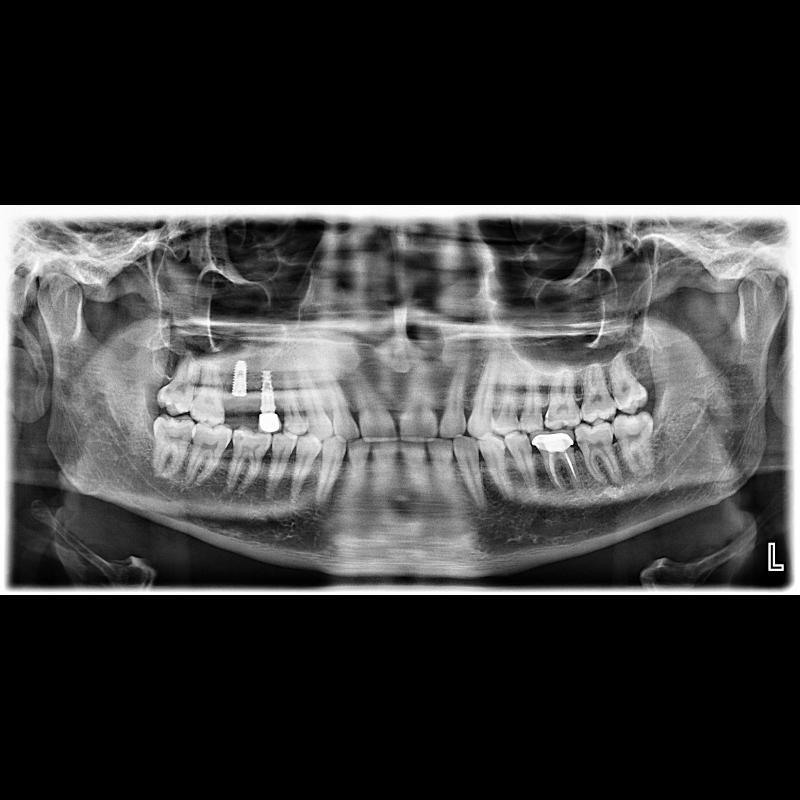osstem: (257, 363, 279, 415), (230, 358, 250, 400)
